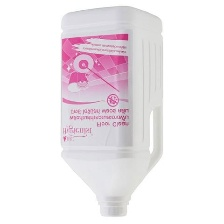cleaning_solution: (58, 2, 167, 220)
